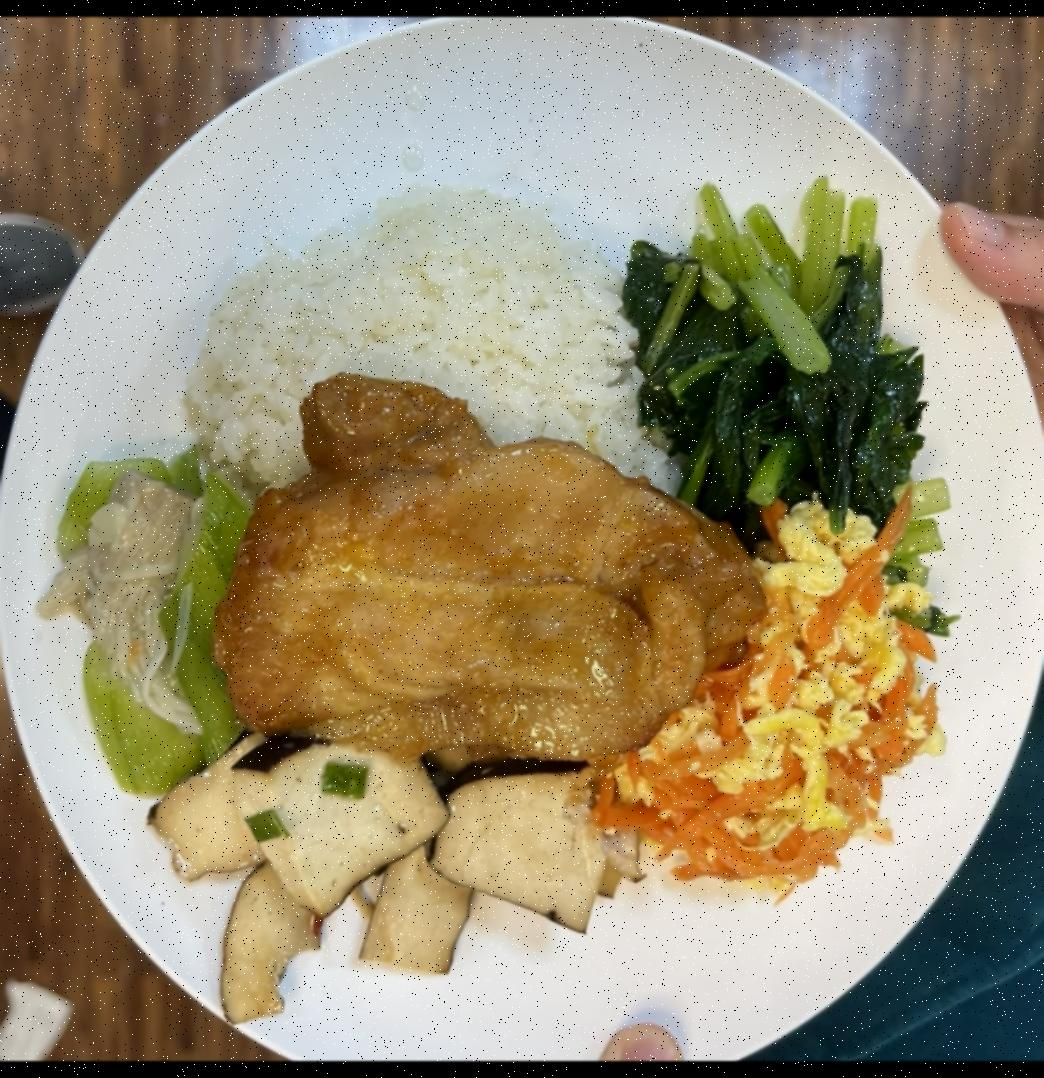big fried chicken leg: (0, 20, 1044, 1061)
big herbal chicken leg: (210, 188, 670, 492)
braised fish fillet: (150, 730, 616, 1034), (598, 505, 948, 887), (624, 178, 929, 542), (49, 457, 263, 799)
braised pork: (232, 375, 765, 779)
